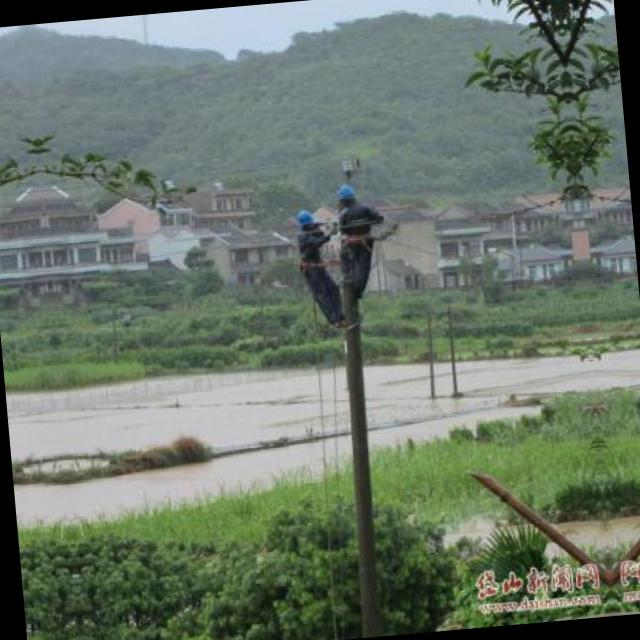helmet: (296, 204, 322, 237), (338, 182, 358, 210)
